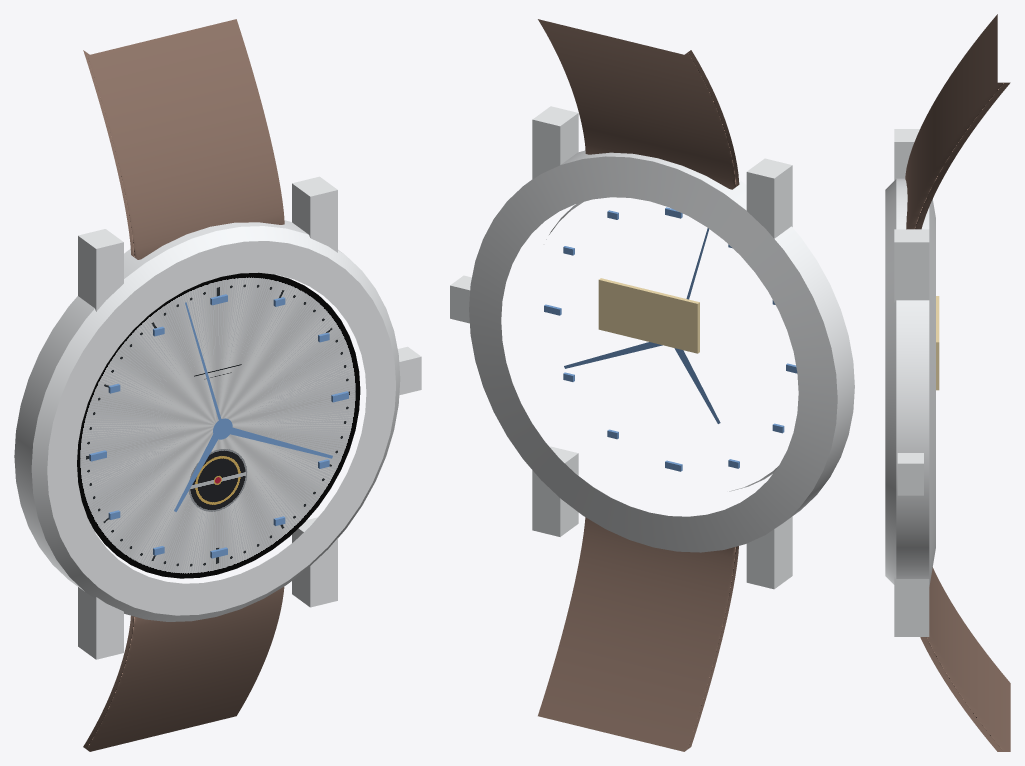
File: serein-02.glb
The picture shows the model from 3 angles, left to right: view 1: azimuth 30°, elevation 25°; view 2: azimuth 150°, elevation 25°; view 3: azimuth 270°, elevation 25°; orthographic projection. The views are drawn at different scales.
Visible parts, largest first — view 1: WatchMesh; view 2: WatchMesh; view 3: WatchMesh.
Part boxes in pixels (x1,y1,x2,y2): WatchMesh: [14, 19, 421, 751]; WatchMesh: [450, 19, 854, 751]; WatchMesh: [885, 14, 1010, 751].
Size of the model in its own units: 1.97 by 3.36 by 0.58.
6 materials, 1 textured.
